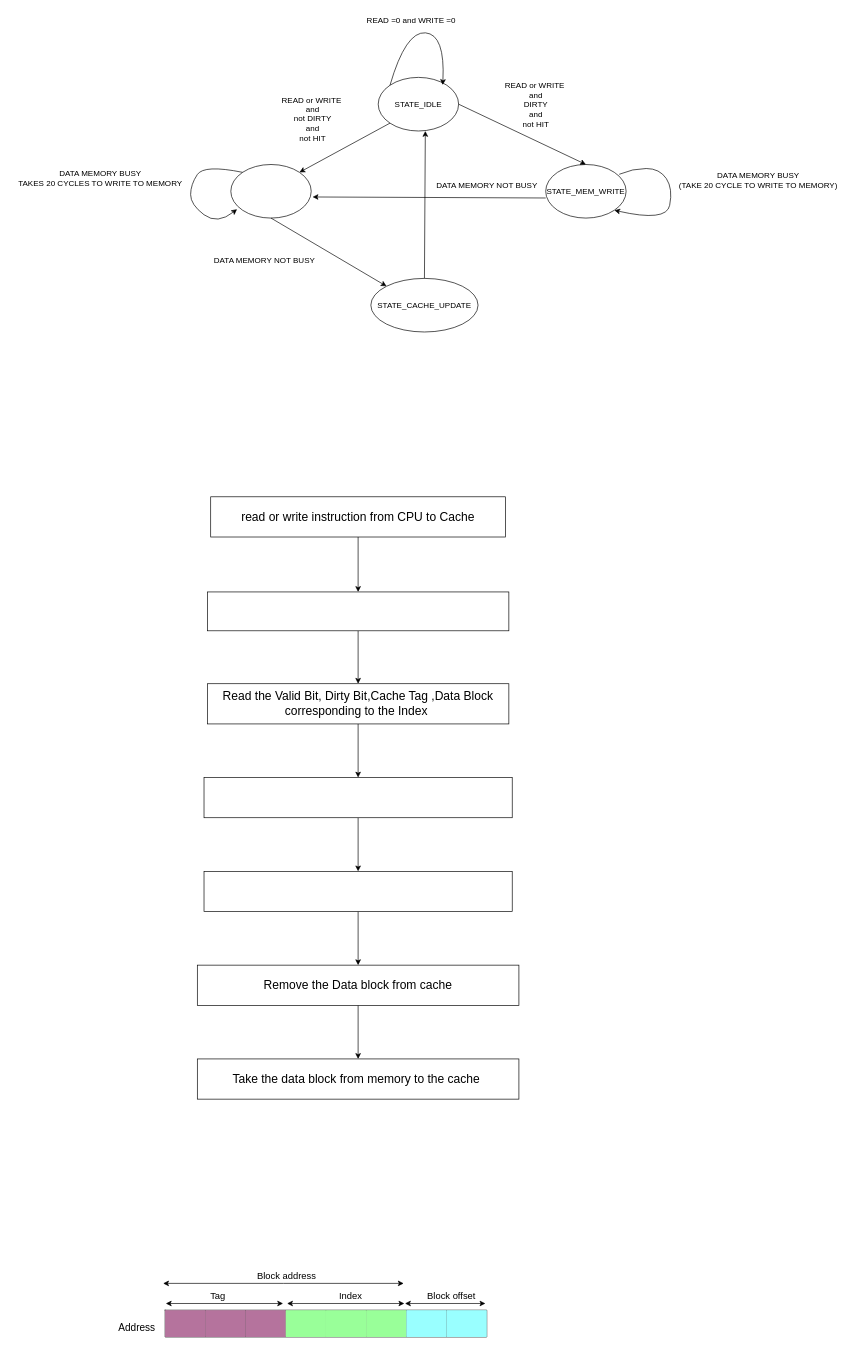
This 854x1349 diagram has some shape labels left out. Here are the shapes that lost their labels. From the top down, the centre of each, then its label:
pixel 270 191: STATE_MEM_READ
pixel 358 611: Decode address---> Index,Target Tag,DataOffset
pixel 357 797: If the Tags are different and dirty bit is 1 (Dat bloock is updated)
pixel 357 891: Update the Data Block correspond to the address in Data memory
